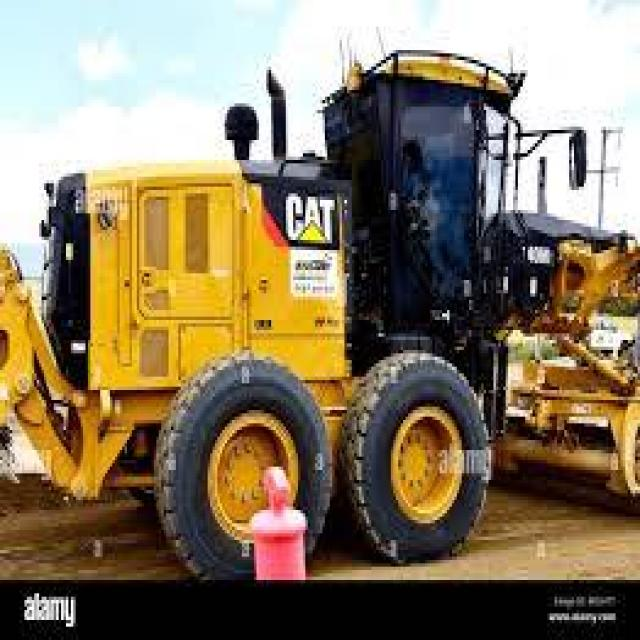Grader: (25, 34, 638, 564)
